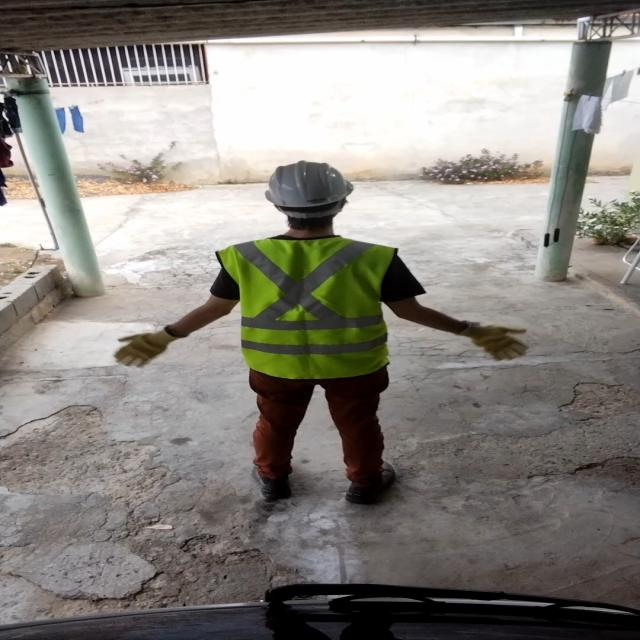glove: (105, 318, 190, 374), (451, 316, 536, 362)
helmet: (252, 160, 360, 221)
pants: (237, 369, 396, 483)
vest: (218, 232, 398, 381)
